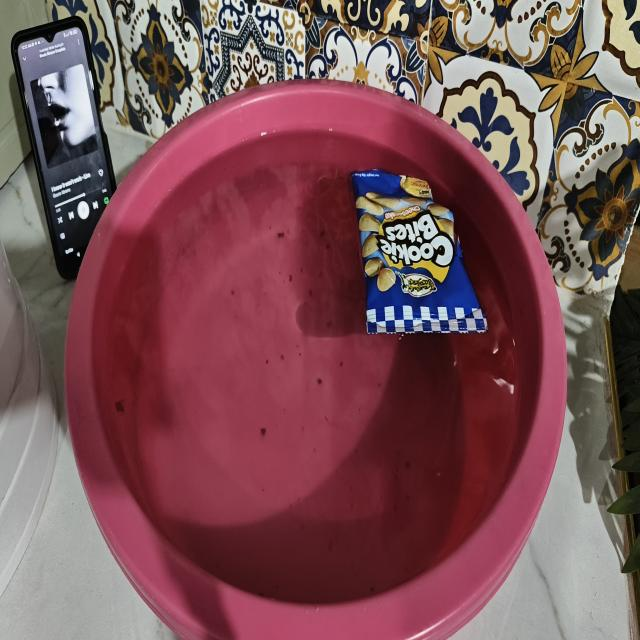Plastic Wrapper: (332, 120, 512, 386)
